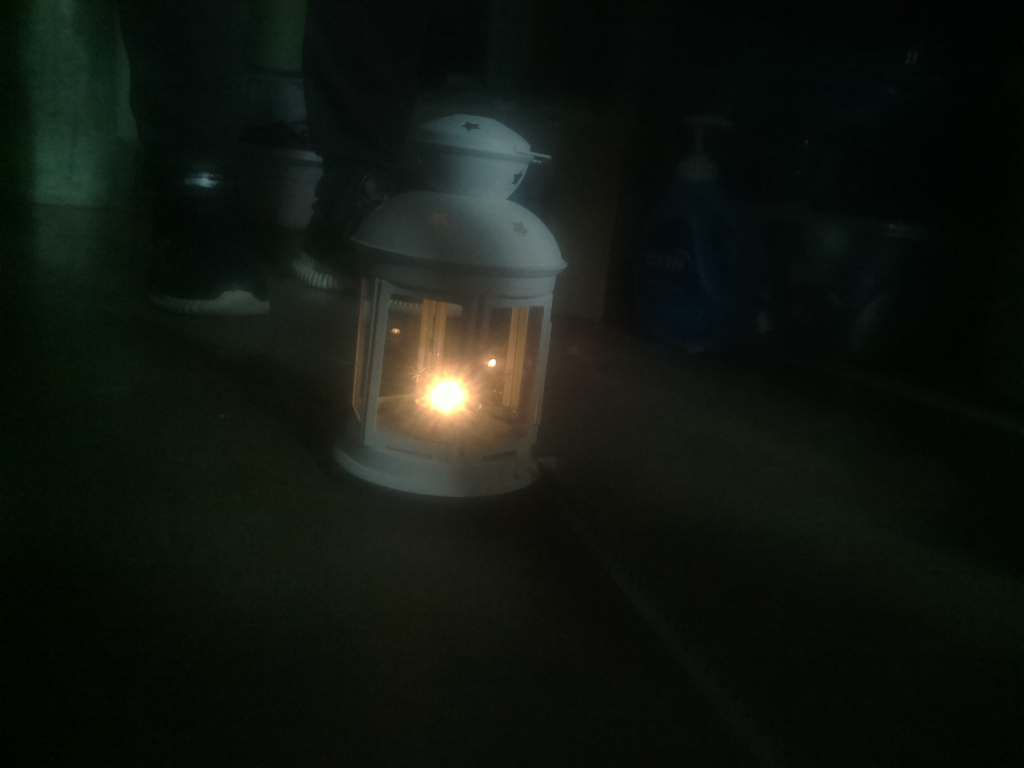fire: (392, 350, 501, 444)
